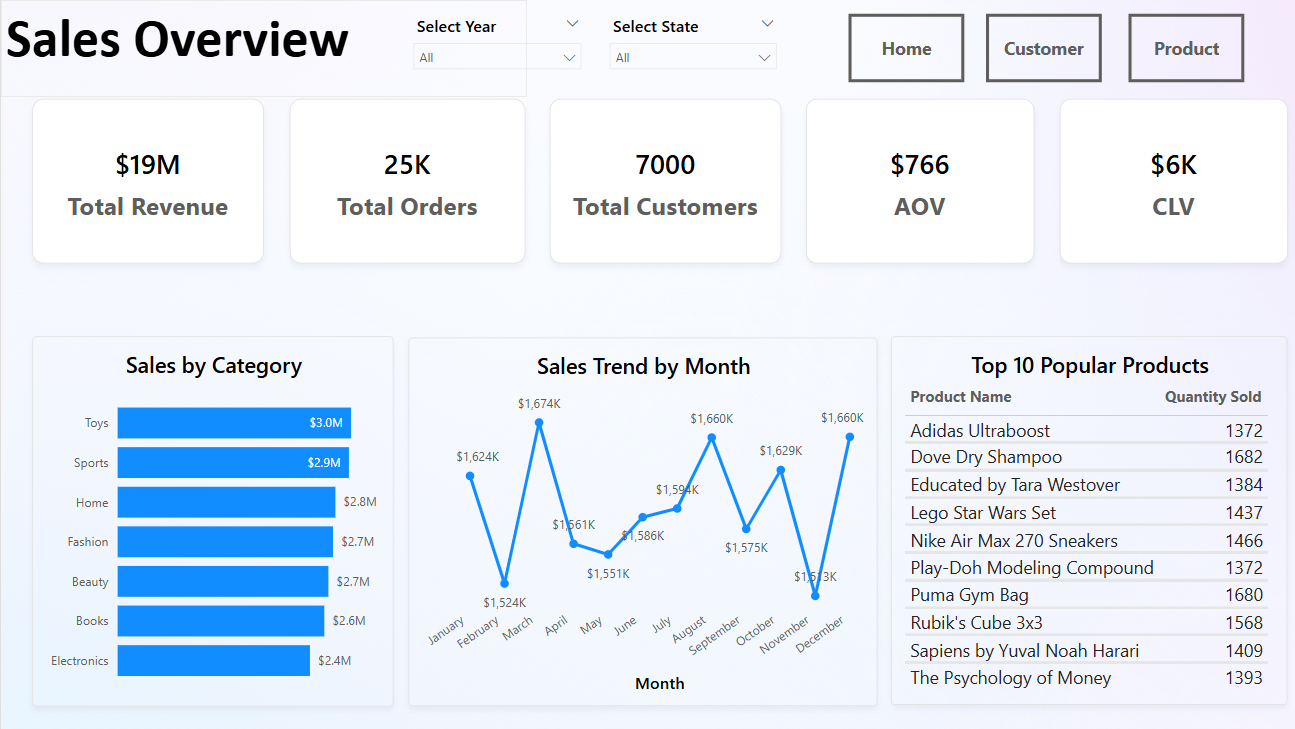

The dashboard page shown, as its layout file describes it:
{"tool":"powerbi","page":{"name":"Page 1","canvas":[1280,720],"ordinal":0},"visuals":[{"type":"textbox","box":[0,0,516,96.1],"z":0},{"type":"card","fields":{"Values":["orders1.total_price"]},"box":[30.6,96.6,227.4,161.4],"z":1000},{"type":"card","fields":{"Values":["orders1.order_id"]},"box":[283.7,96.6,231.1,161.4],"z":2000},{"type":"card","fields":{"Values":["customers3.customer_id"]},"box":[538,96.6,227.4,161.4],"z":3000},{"type":"card","fields":{"Values":["customers3.AOV"]},"box":[789.9,96.6,223.8,161.4],"z":4000},{"type":"barChart","title":"Sales by Category","fields":{"Y":["orders1.total_price"],"Category":["Table1.category"]},"box":[30.6,330.2,354.6,363.2],"z":5000},{"type":"lineChart","title":"Sales Trend by Month","fields":{"Y":["orders1.total_price"],"Category":["orders1.order_date.Variation.Date Hierarchy.Month"]},"box":[399.9,331.4,459.8,362],"z":6000},{"type":"tableEx","title":"Top 10 Popular Products","fields":{"Values":["Table1.product_name","orders1.quantity"]},"box":[873.1,330.2,388.9,362],"z":7000},{"type":"slicer","fields":{"Values":["orders1.order_date.Variation.Date Hierarchy.Year"]},"box":[399.9,13.5,174.9,67.3],"z":8000},{"type":"slicer","title":"Select State","fields":{"Values":["customers3.States"]},"box":[591.9,13.5,173.6,67.3],"z":9000},{"type":"card","fields":{"Values":["customers3.CLV"]},"box":[1038.2,96.6,223.8,161.4],"z":9001},{"type":"actionButton","box":[831.5,13.5,113.7,67.3],"z":9002,"group":"g1"},{"type":"actionButton","box":[966,13.5,113.7,67.3],"z":9003,"group":"g1"},{"type":"actionButton","box":[1106.6,13.5,113.7,67.3],"z":9004,"group":"g1"},{"type":"group","id":"g1","title":"Group 1","box":[831.5,13.5,388.9,67.3],"z":9005}]}

Visuals, with their boxes in screenshot pixels (x1, y1, x2, y2), scaled from the page's 1280x720 canvas onto the 1295x729 screenshot:
textbox: [0,0,522,97]
card - orders1.total_price: [31,98,261,261]
card - orders1.order_id: [287,98,521,261]
card - customers3.customer_id: [544,98,774,261]
card - customers3.AOV: [799,98,1026,261]
"Sales by Category" barChart: [31,334,390,702]
"Sales Trend by Month" lineChart: [405,336,870,702]
"Top 10 Popular Products" tableEx: [883,334,1277,701]
slicer - orders1.order_date.Variation.Date Hierarchy.Year: [405,14,582,82]
"Select State" slicer: [599,14,774,82]
card - customers3.CLV: [1050,98,1277,261]
actionButton: [841,14,956,82]
actionButton: [977,14,1092,82]
actionButton: [1120,14,1235,82]
"Group 1" group: [841,14,1235,82]
